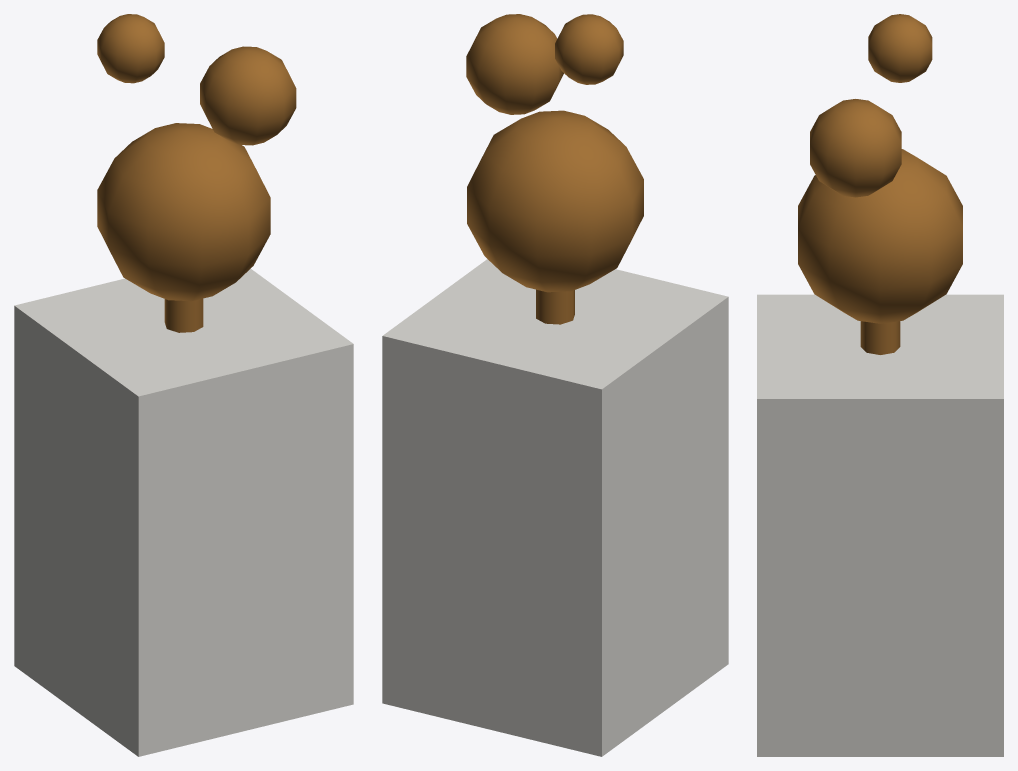
The model's file is sculpture_abstract.glb.
3 views of the same model, side by side, from view 1: azimuth 30°, elevation 25°; view 2: azimuth 150°, elevation 25°; view 3: azimuth 270°, elevation 25° (orthographic). The views are drawn at different scales.
Parts seen in each view (by area): view 1: sculpture_abstract; view 2: sculpture_abstract; view 3: sculpture_abstract.
Boxes of the visible parts, box(x1,y1,x2,y2) form: sculpture_abstract: box(14, 14, 353, 756); sculpture_abstract: box(382, 14, 728, 756); sculpture_abstract: box(757, 14, 1003, 756).
Size of the model in its own units: 0.5 by 1.49 by 0.5.
